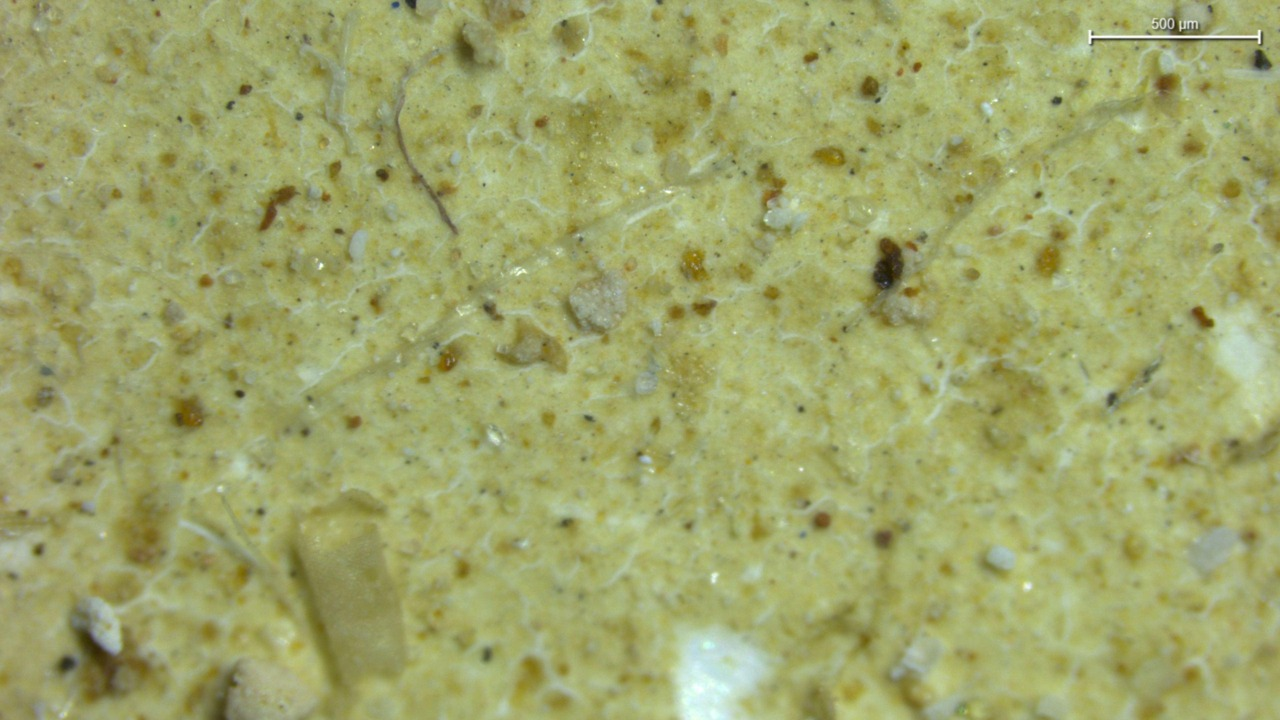microplastic_fragment: (232, 659, 316, 720), (569, 274, 627, 330), (77, 599, 124, 659), (763, 193, 804, 232), (988, 544, 1016, 572)
